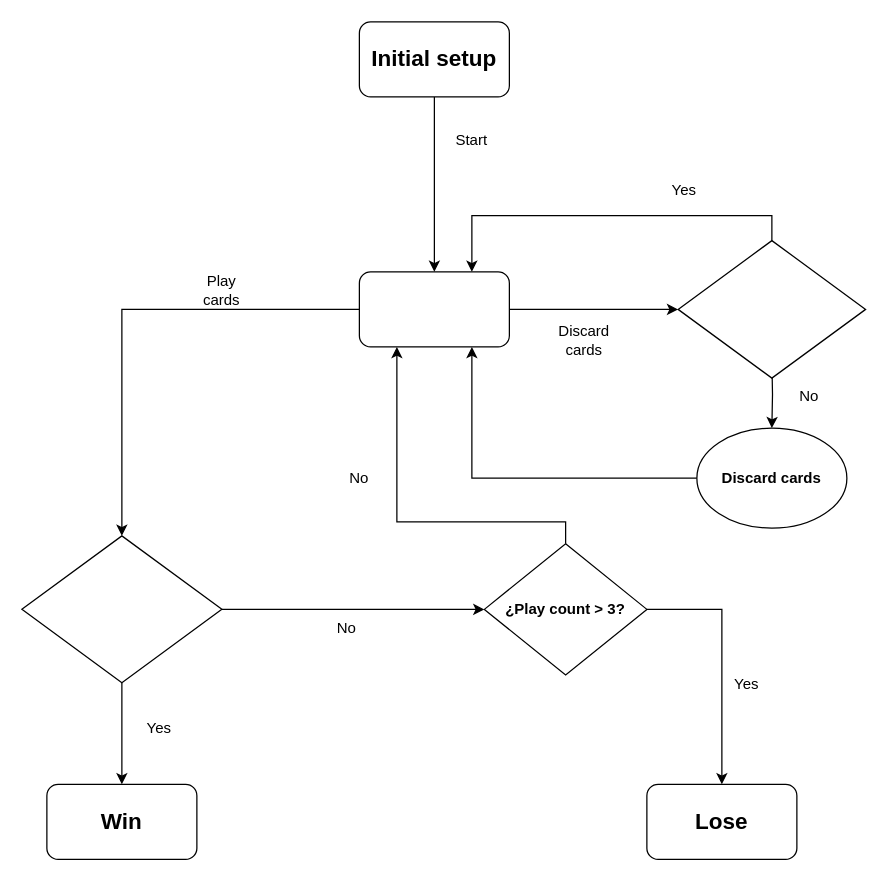
Image size: 888x881. Some labels were removed from this diagram. Each missing label, with the centre of its shape:
Player's turn: the point at 433,309
¿Discard count > 3?: the point at 771,308
¿Score >= target score?: the point at 121,609
